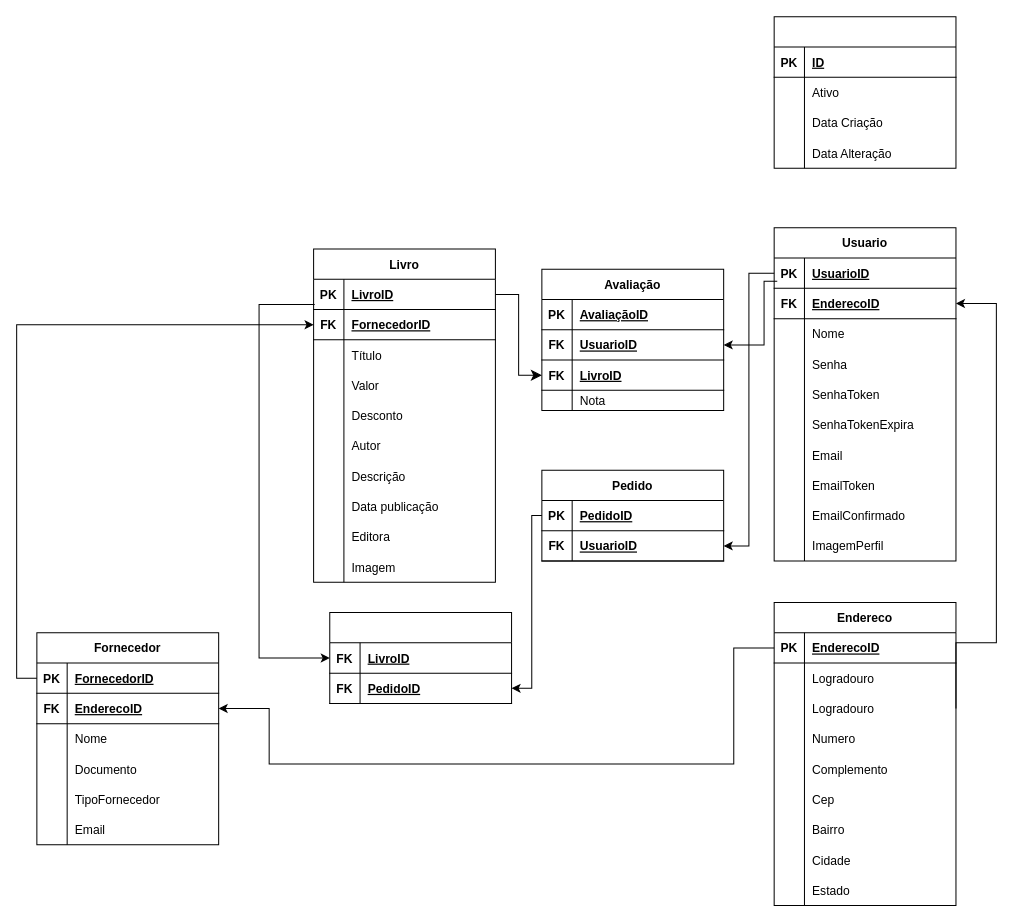
Image size: 1013x922. Some labels were removed from this diagram. The box of each missing label's shape, as (x1, y1, x2, y2) in pixels:
Entidade: (773, 16, 956, 168)
Livro_Pedido: (329, 612, 512, 703)
